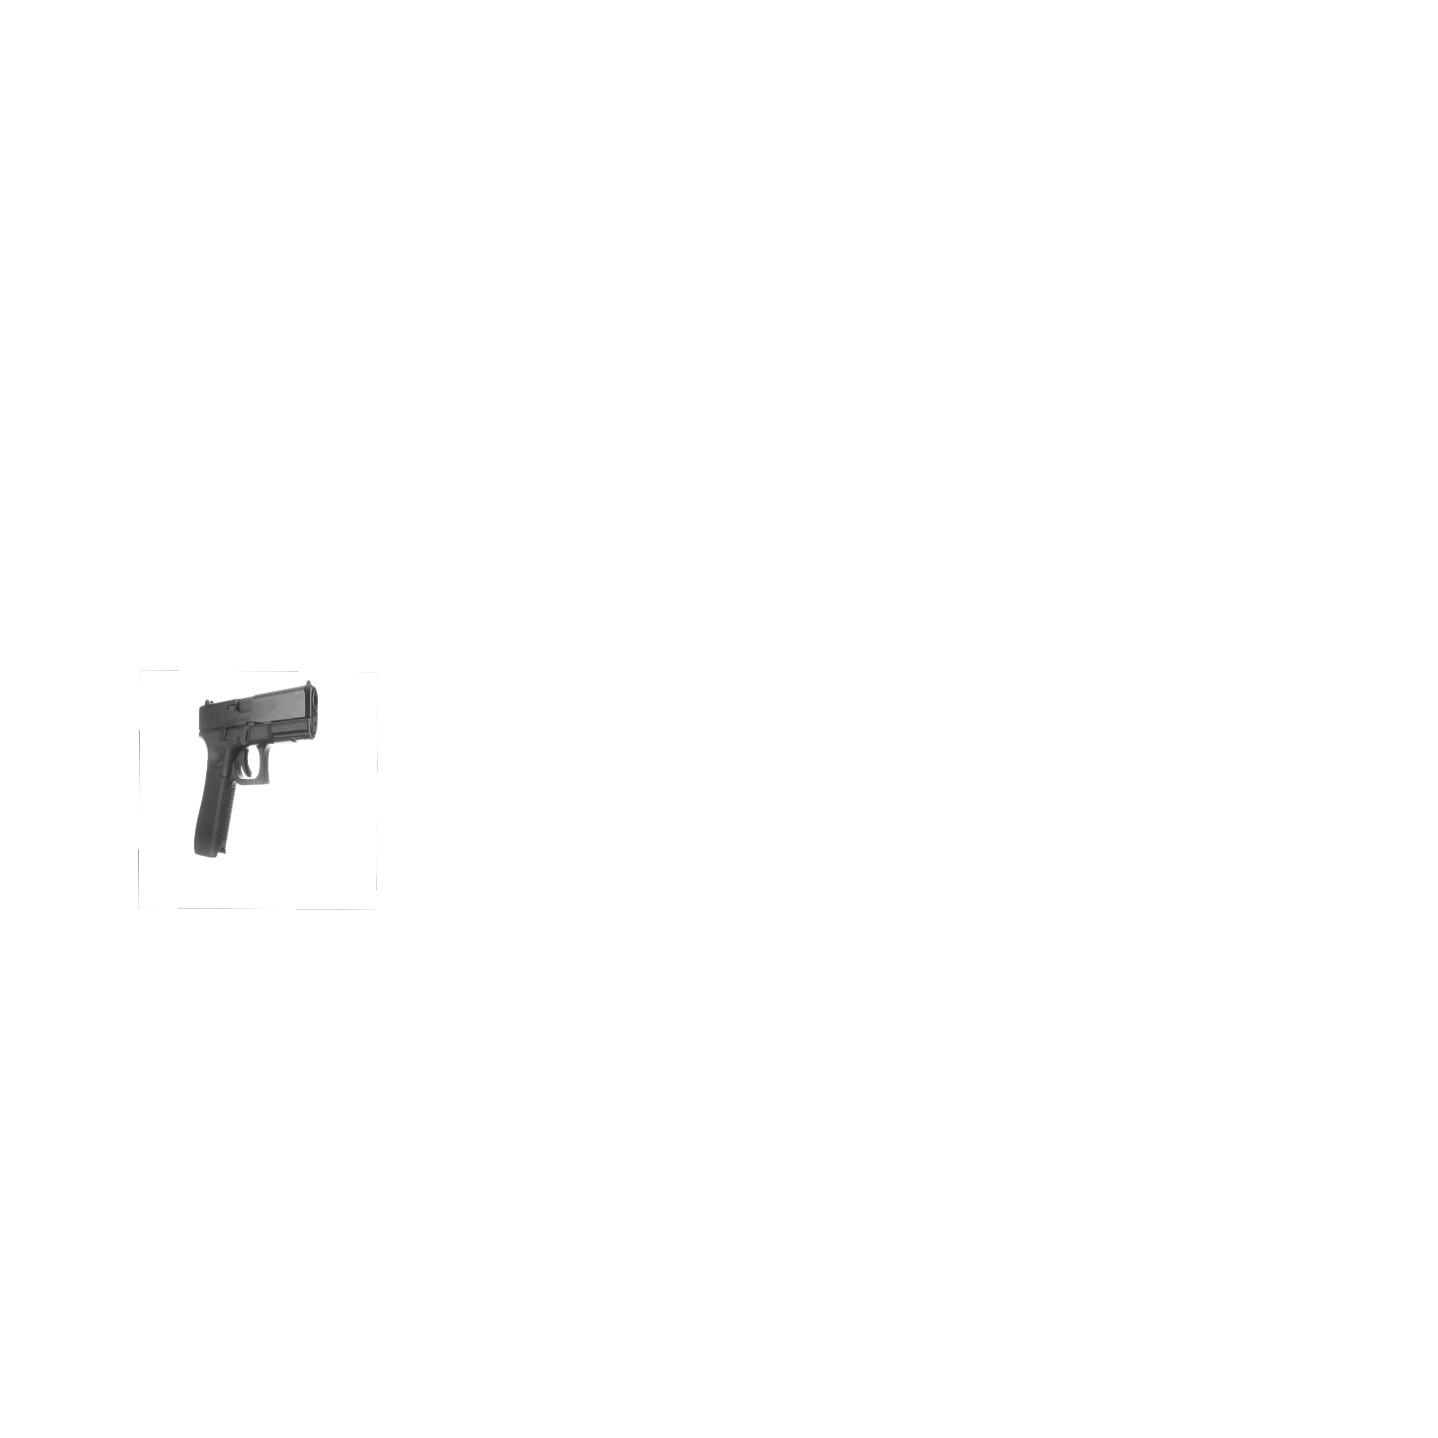gun: (182, 678, 324, 861)
